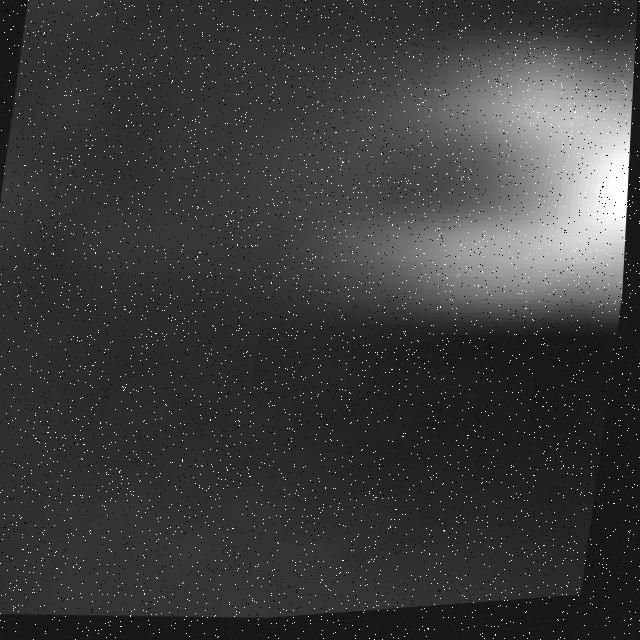person: (351, 4, 639, 354)
